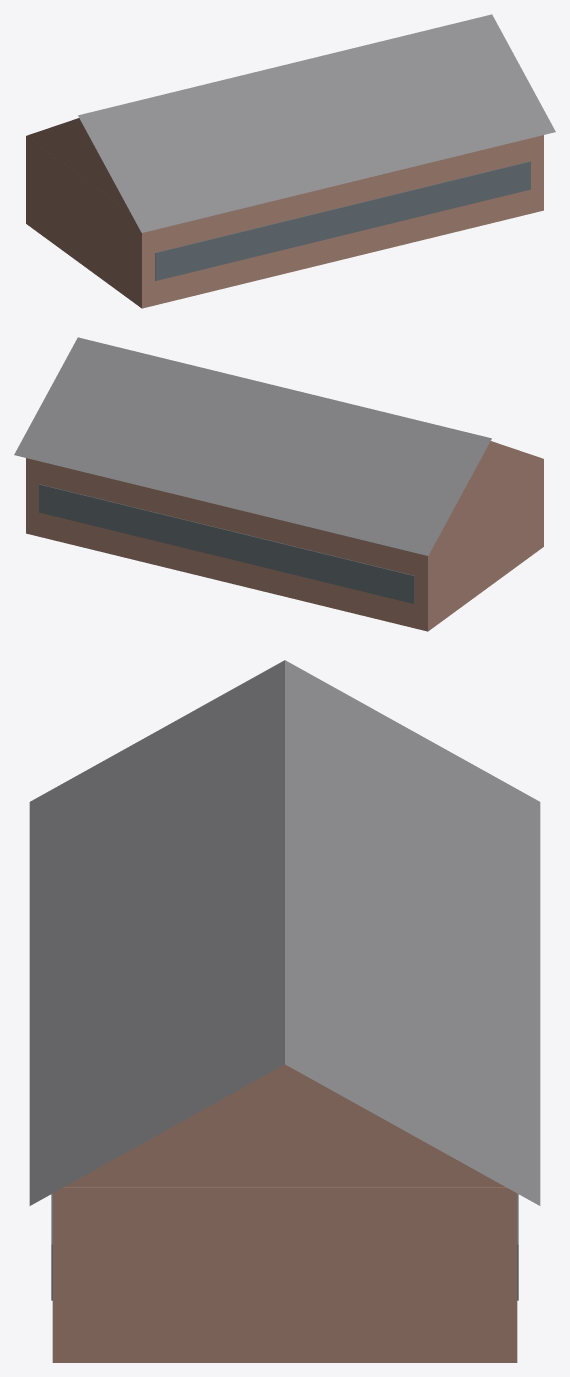
The model's file is schoolhouse.loc-v1.lod2.glb.
The picture shows the model from 3 angles, top to bottom: view 1: azimuth 30°, elevation 25°; view 2: azimuth 150°, elevation 25°; view 3: azimuth 270°, elevation 25°; orthographic projection. The views are drawn at different scales.
Visible parts, largest first — view 1: schoolhouse; view 2: schoolhouse; view 3: schoolhouse.
Part boxes in pixels (bbox=[...]): schoolhouse: bbox=[26, 14, 555, 308]; schoolhouse: bbox=[14, 337, 543, 631]; schoolhouse: bbox=[29, 660, 540, 1362].
Size of the model in its own units: 18.54 by 6.51 by 9.9.
